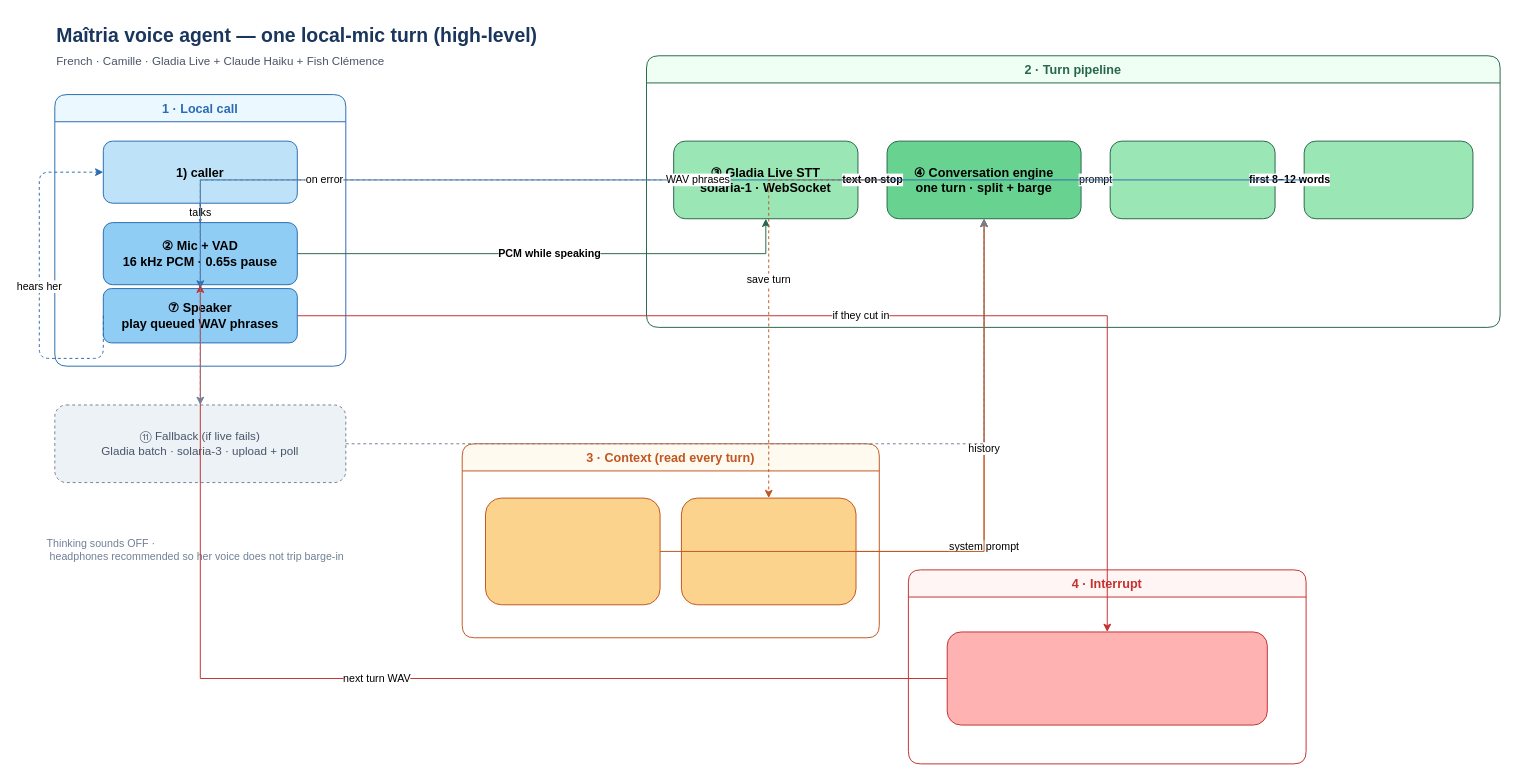
Image size: 1517x781. Some labels were removed from this diagram. The centre of each missing label's shape, as x and y in pixels:
"⑤ Claude Haiku 4.5 stream tokens" belongs at (1192,179).
"⑥ Fish TTS Clémence · latency=low" belongs at (1388,179).
"⑧ Camille + Maîtria facts persona · pack · institution JSON" belongs at (572,551).
"⑨ SQLite session history · slots · recording" belongs at (768,551).
"⑩ Barge-in threshold 1400 · stop her · reuse WAV" belongs at (1106,678).
